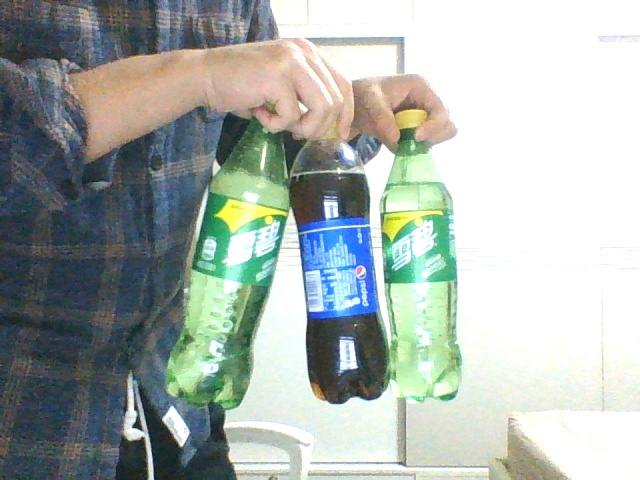Cola: (292, 130, 389, 403)
Sprite: (164, 114, 289, 408), (381, 108, 462, 399)
